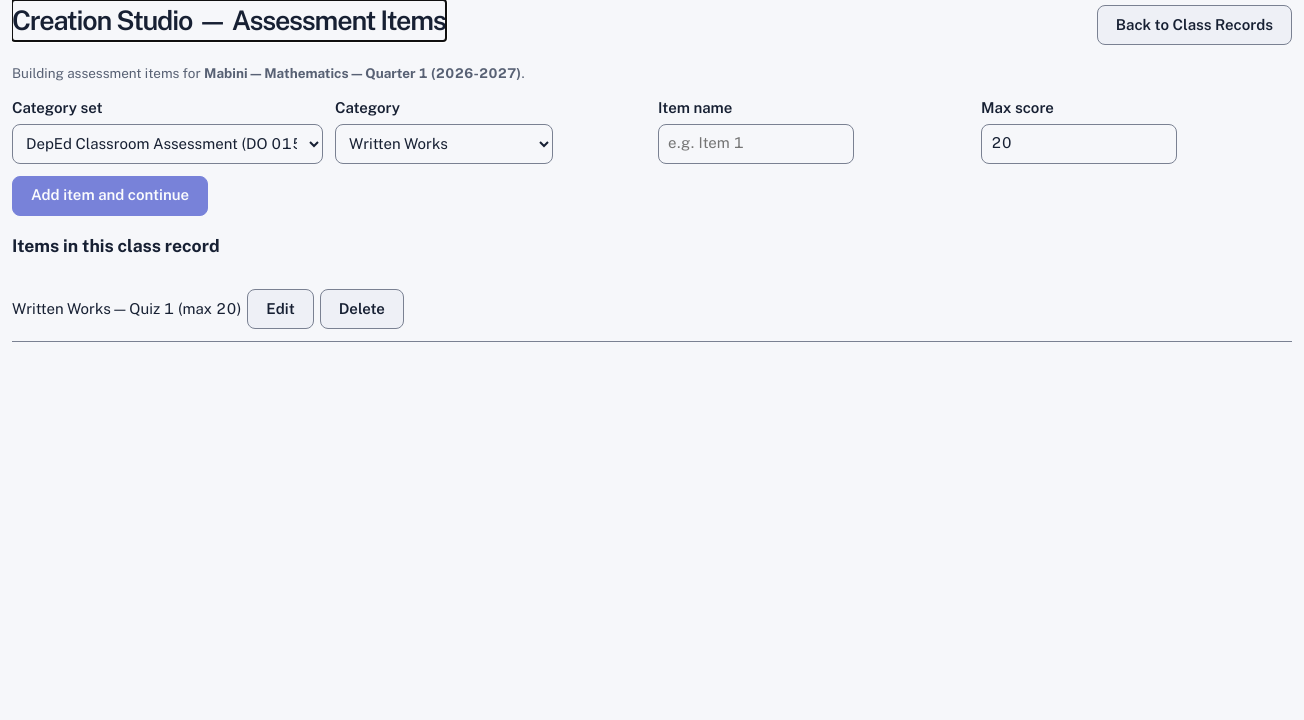
Test: assessment recovery › clears a confirmed creation before a failing list refresh and offers read-only recovery
Expected: the text "Written Works — Quiz 1 (max 20)" is shown, [12,298,241,320]
Type "Quiz 2" into the field labelled "Item name" at (756, 144), box [658,124,854,164]
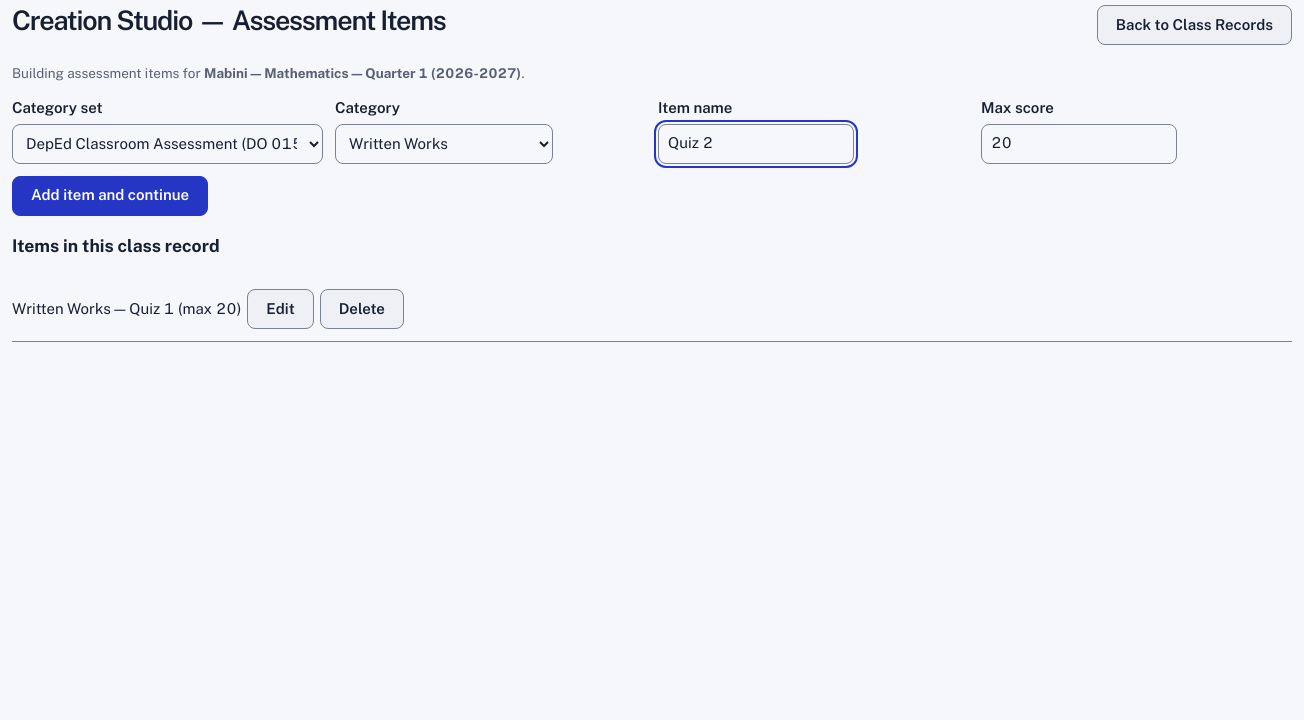
Click the button "Add item and continue" at (110, 196), box [12,176,208,216]
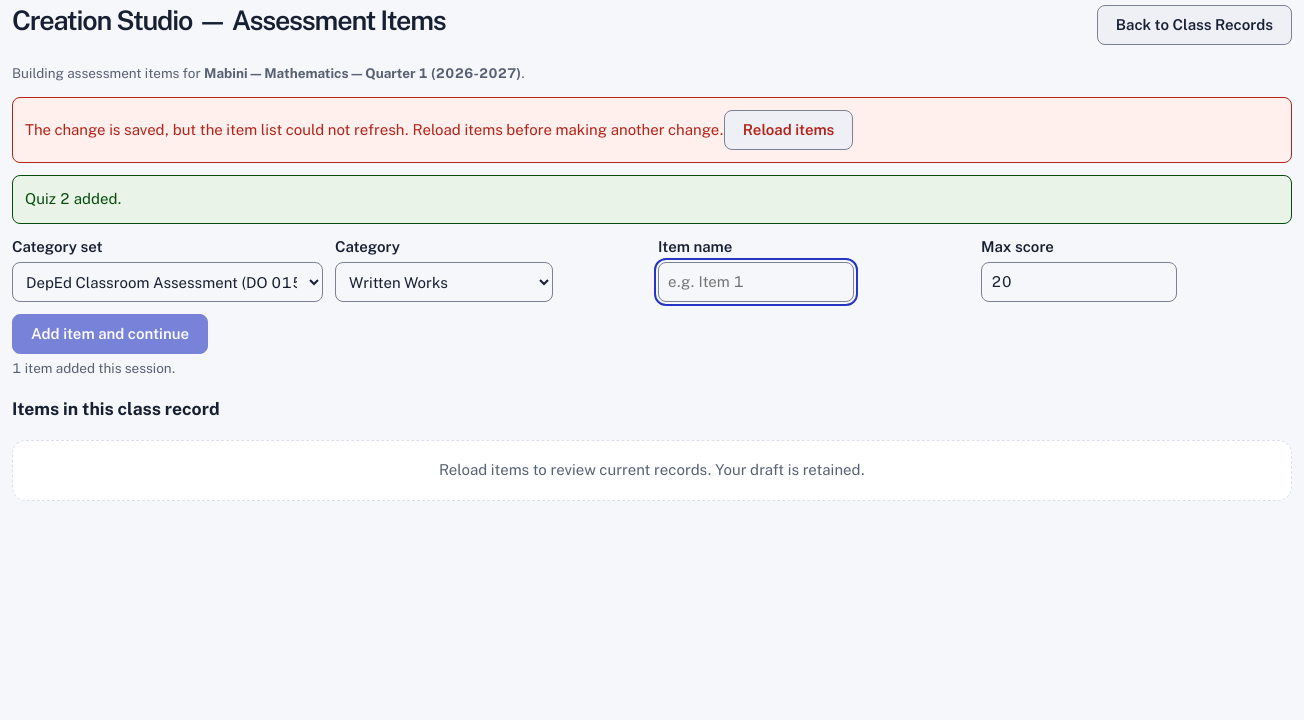
Expected: the text "The change is saved, but the item list could not refresh" is shown, [25,121,724,138]
Expected: the field labelled "Item name" is empty, [658,262,854,302]
Expected: the text "Quiz 2 added." is shown, [12,175,1292,224]
Click the button "Reload items" at (789, 130), box [724,110,853,150]
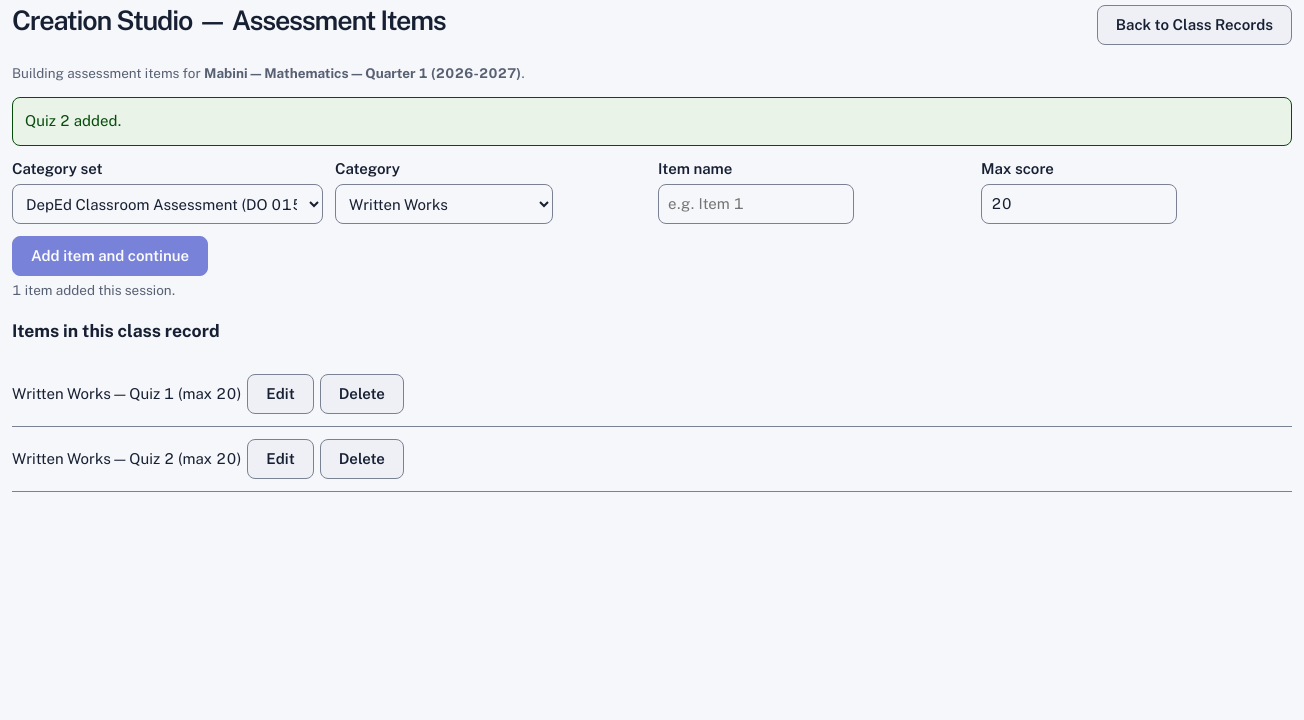
Expected: the text "Written Works — Quiz 2 (max 20)" is shown, [12,448,241,470]
